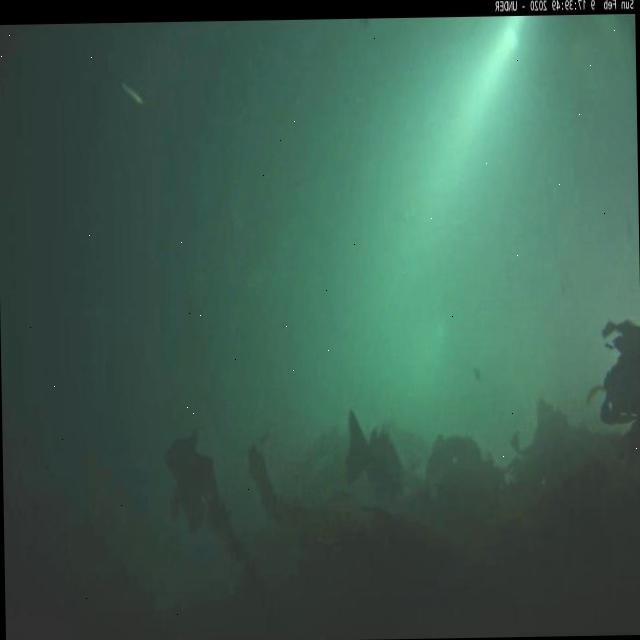fish: (118, 81, 145, 112)
